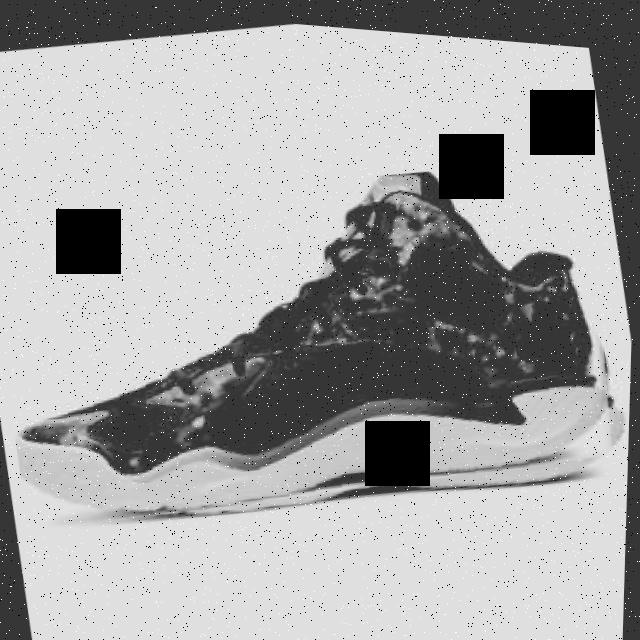shoe: (0, 108, 637, 570)
